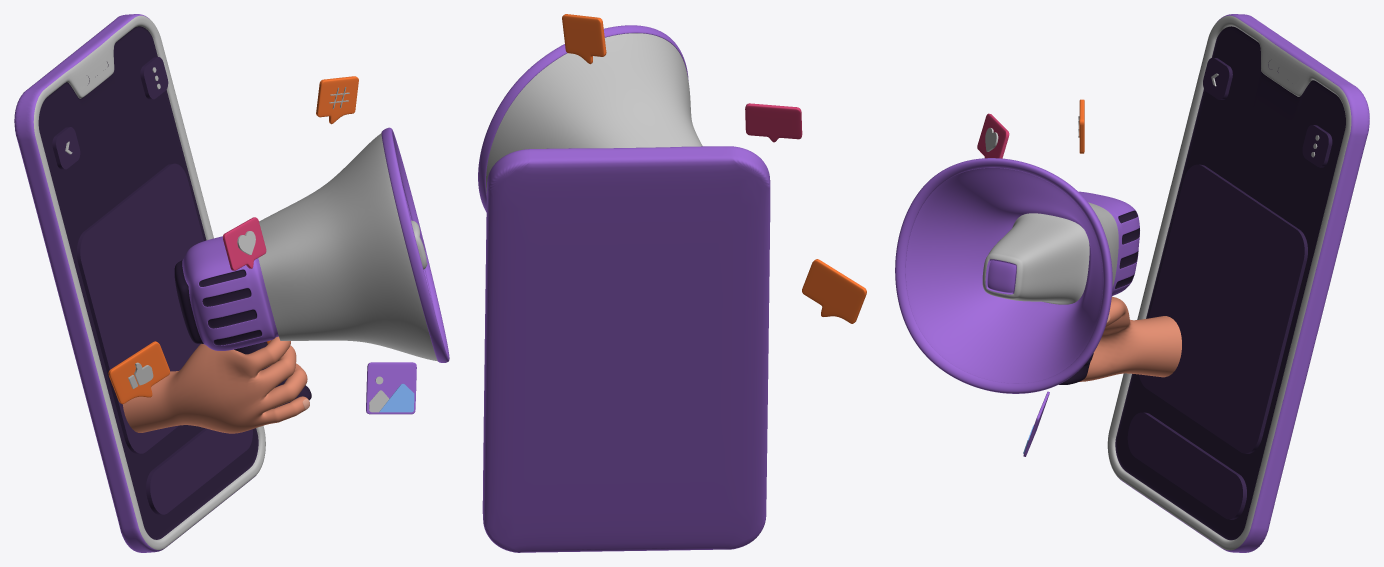
The model's file is social-media-3d-animated-icon-1182922925087.glb.
3 renders of one model, left to right at view 1: azimuth 30°, elevation 25°; view 2: azimuth 150°, elevation 25°; view 3: azimuth 270°, elevation 25°, orthographic. The views are drawn at different scales.
Parts seen in each view (by area): view 1: Phone, Hand Megaphone, Phone Apps Frame, Hand, Phone Apps Frame Button, Image Icon, Like Icon, Love Icon, Hastag Icon, Phone Apps Frame Arrow Button, Phone Apps Frame Option Button; view 2: Phone, Hand Megaphone, Like Icon, Love Icon, Hastag Icon; view 3: Phone, Hand Megaphone, Phone Apps Frame, Phone Apps Frame Button, Hand, Love Icon, Phone Apps Frame Option Button, Phone Apps Frame Arrow Button.
Boxes of the visible parts, x1=… form: Phone: x1=14, y1=14, x2=265, y2=552; Hand Megaphone: x1=174, y1=127, x2=449, y2=408; Phone Apps Frame: x1=77, y1=163, x2=203, y2=453; Hand: x1=123, y1=336, x2=309, y2=433; Phone Apps Frame Button: x1=146, y1=428, x2=252, y2=514; Image Icon: x1=366, y1=362, x2=416, y2=414; Like Icon: x1=108, y1=341, x2=169, y2=404; Love Icon: x1=223, y1=217, x2=266, y2=270; Hastag Icon: x1=316, y1=76, x2=358, y2=124; Phone Apps Frame Arrow Button: x1=52, y1=127, x2=80, y2=169; Phone Apps Frame Option Button: x1=140, y1=57, x2=168, y2=99; Phone: x1=482, y1=146, x2=770, y2=552; Hand Megaphone: x1=478, y1=25, x2=702, y2=212; Like Icon: x1=802, y1=259, x2=866, y2=323; Love Icon: x1=745, y1=103, x2=802, y2=142; Hastag Icon: x1=562, y1=14, x2=606, y2=64; Phone: x1=1107, y1=14, x2=1369, y2=552; Hand Megaphone: x1=895, y1=158, x2=1139, y2=393; Phone Apps Frame: x1=1139, y1=164, x2=1307, y2=453; Phone Apps Frame Button: x1=1127, y1=412, x2=1246, y2=519; Hand: x1=1079, y1=296, x2=1181, y2=381; Love Icon: x1=977, y1=113, x2=1009, y2=158; Phone Apps Frame Option Button: x1=1302, y1=125, x2=1332, y2=167; Phone Apps Frame Arrow Button: x1=1203, y1=57, x2=1232, y2=99.
Size of what is drawn, in the model's own units: 1.5 by 1.91 by 1.81.
